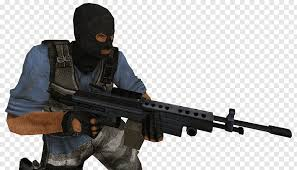gun: (47, 79, 292, 157)
